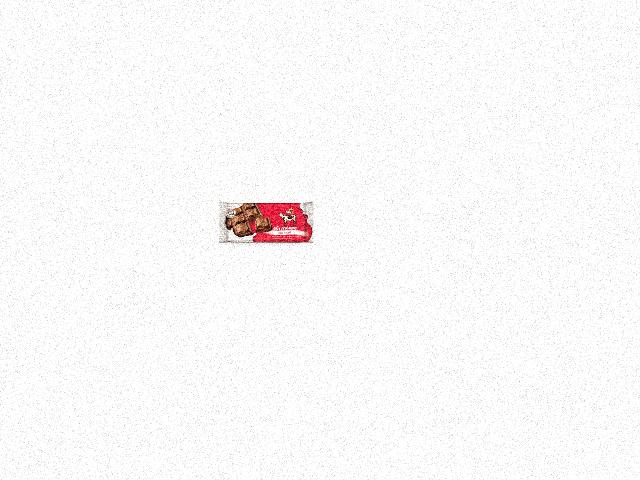chocolate: (217, 198, 315, 250)
